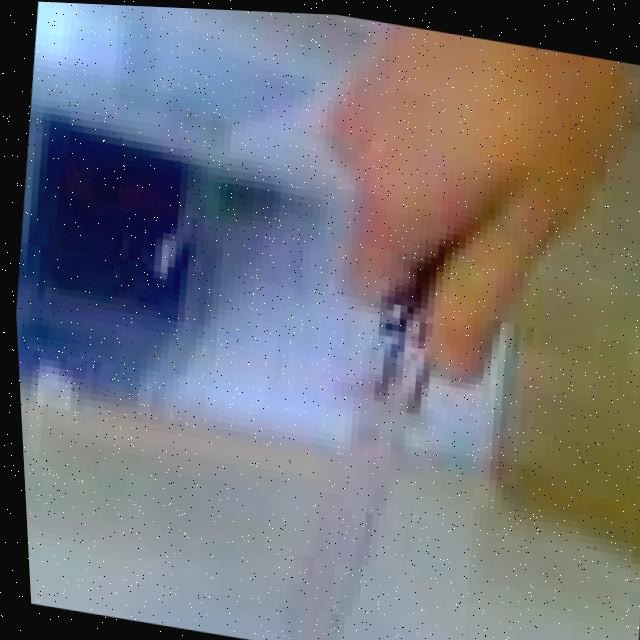knife: (259, 285, 443, 640)
